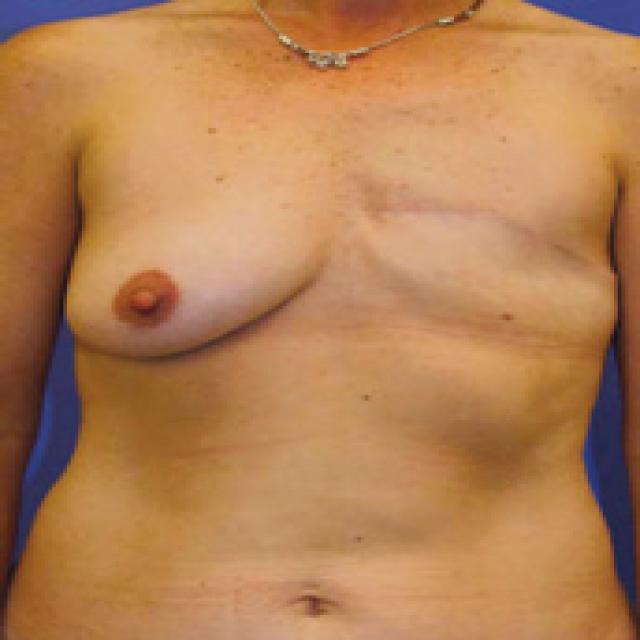Seno herido: (344, 157, 632, 357)
Seno ileso: (53, 157, 340, 382)
